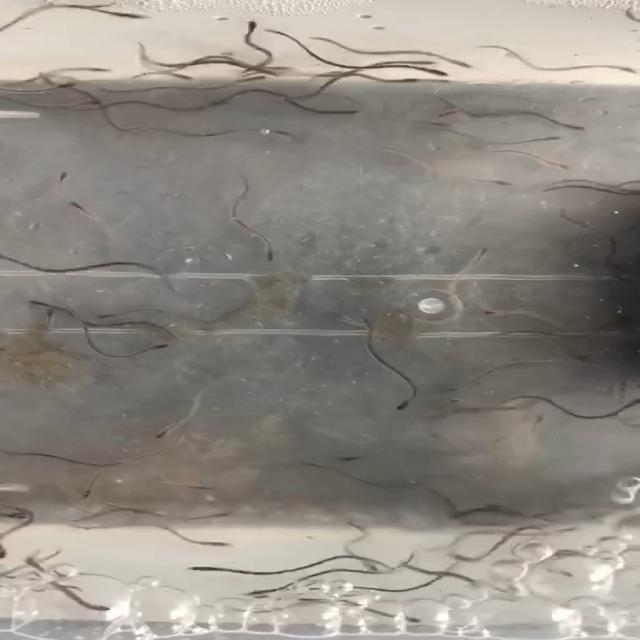active_glass_eel: (110, 6, 166, 26), (428, 372, 486, 391), (479, 499, 529, 520), (55, 197, 106, 217), (129, 430, 192, 446), (436, 48, 476, 73), (384, 396, 421, 421), (410, 62, 459, 80), (77, 594, 116, 615), (72, 482, 110, 502), (206, 508, 242, 528), (274, 128, 312, 146), (461, 244, 499, 262), (357, 559, 395, 577), (436, 545, 475, 562), (327, 101, 365, 118), (424, 118, 464, 134), (437, 395, 476, 411), (320, 451, 368, 464), (544, 563, 578, 581), (231, 17, 268, 33), (205, 538, 241, 554), (392, 610, 424, 628), (607, 63, 640, 80), (251, 247, 285, 263), (92, 307, 125, 323), (52, 172, 89, 186), (478, 303, 508, 320), (69, 99, 114, 110), (562, 117, 591, 134), (135, 341, 179, 352), (256, 64, 296, 76), (394, 559, 424, 574), (81, 64, 117, 76), (547, 132, 574, 148), (24, 556, 54, 570), (395, 75, 431, 86), (172, 72, 208, 83), (433, 108, 466, 120), (550, 160, 580, 173), (242, 74, 276, 84), (26, 296, 51, 309), (38, 306, 63, 319), (55, 80, 82, 91), (191, 565, 218, 574), (627, 396, 640, 412), (496, 179, 512, 189)
